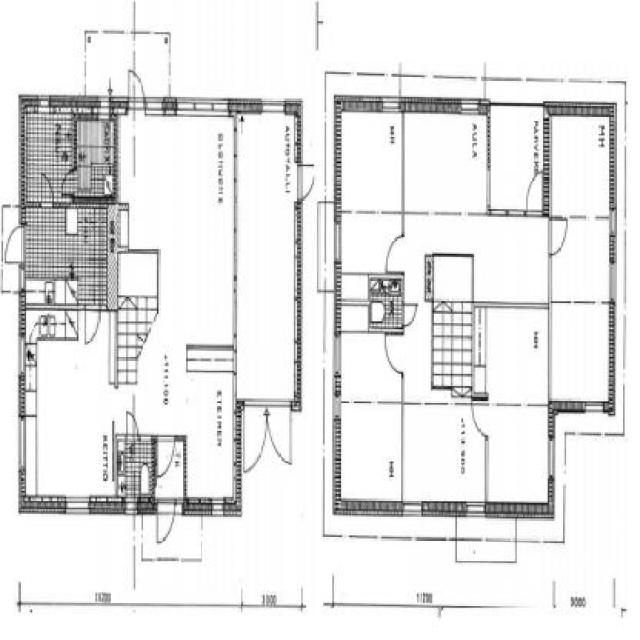door: (240, 397, 292, 474), (5, 218, 26, 272), (156, 498, 178, 548), (296, 157, 318, 206), (382, 329, 404, 378), (157, 431, 177, 478), (386, 232, 406, 276), (528, 166, 544, 217), (549, 216, 568, 258), (123, 406, 142, 445), (472, 403, 491, 440), (86, 303, 102, 345), (58, 166, 78, 199), (128, 68, 143, 108), (41, 170, 56, 208), (403, 300, 419, 328)
window: (178, 100, 230, 115), (466, 498, 485, 520), (19, 414, 26, 468), (97, 95, 112, 120), (262, 98, 284, 115), (66, 498, 86, 516), (403, 500, 422, 517), (548, 432, 555, 477), (458, 98, 477, 114), (334, 331, 341, 374), (146, 98, 163, 114), (336, 216, 342, 258), (37, 94, 49, 115), (586, 400, 605, 412), (383, 98, 397, 114), (212, 497, 222, 517), (608, 260, 614, 292), (20, 337, 25, 371), (610, 204, 616, 230), (334, 392, 340, 417), (20, 265, 26, 286)
zone: (408, 106, 546, 505), (117, 108, 229, 500), (24, 303, 121, 495), (237, 103, 297, 395), (550, 111, 608, 395), (472, 298, 548, 502), (340, 110, 402, 272), (342, 332, 402, 498), (23, 206, 117, 305), (489, 101, 543, 210), (24, 97, 74, 195), (142, 503, 200, 555), (340, 274, 400, 323), (78, 110, 112, 192), (119, 436, 152, 490), (153, 441, 184, 497)
